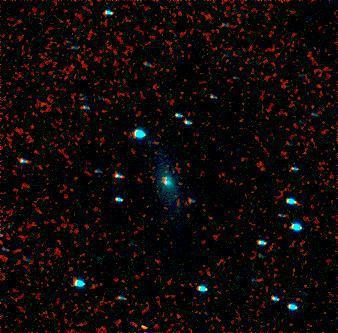star: (129, 312, 159, 333)
